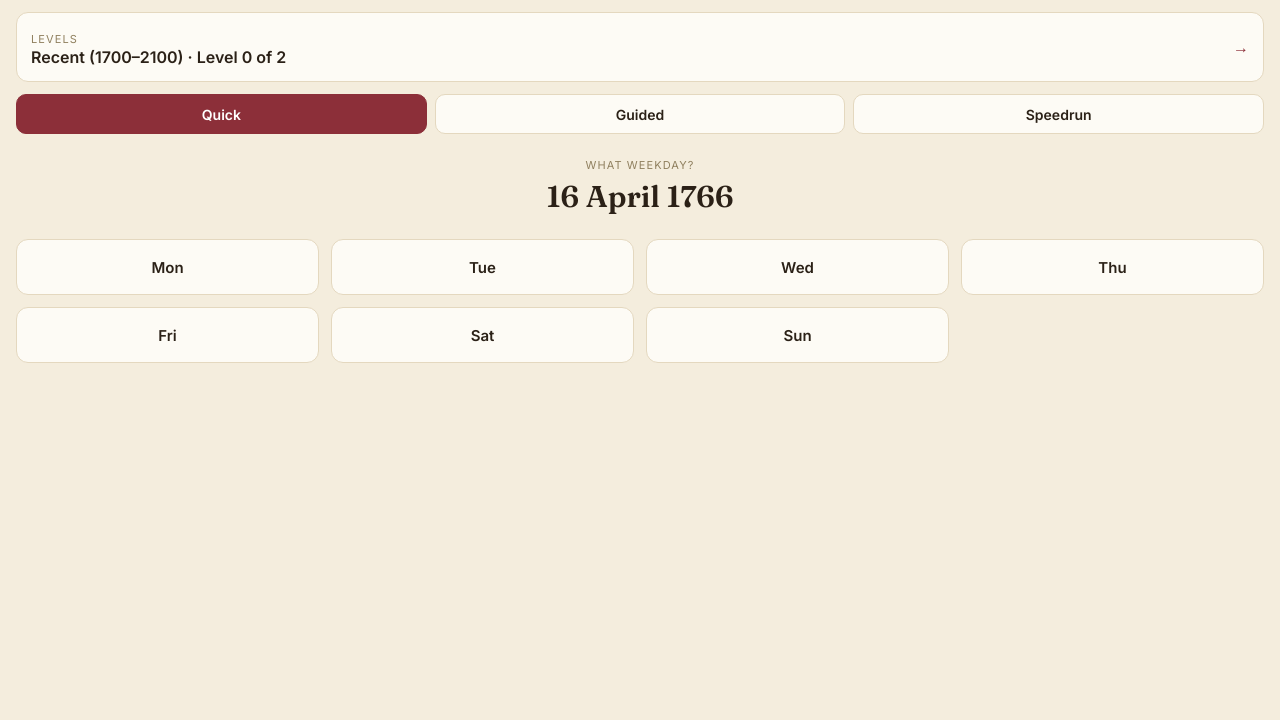
PracticeScreen › grades a correct answer, reveals reasoning, then advances
Click the button with aria-label "Wednesday".
click(798, 267)  # box [646,239,949,295]
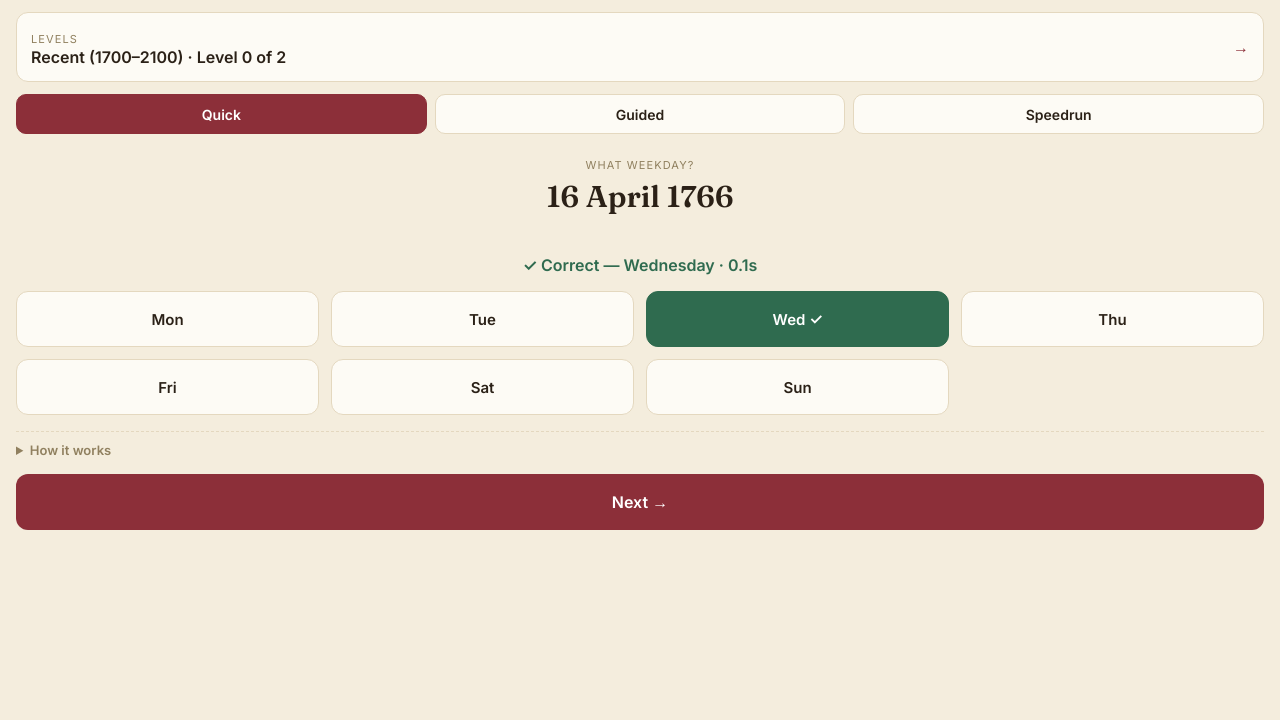
Now the message shows "Correct", box [523,255,757,275]
Now the heading "How it works" is shown, box [30,442,111,458]
Click the button "Next →".
click(640, 502)  # box [16,474,1264,530]
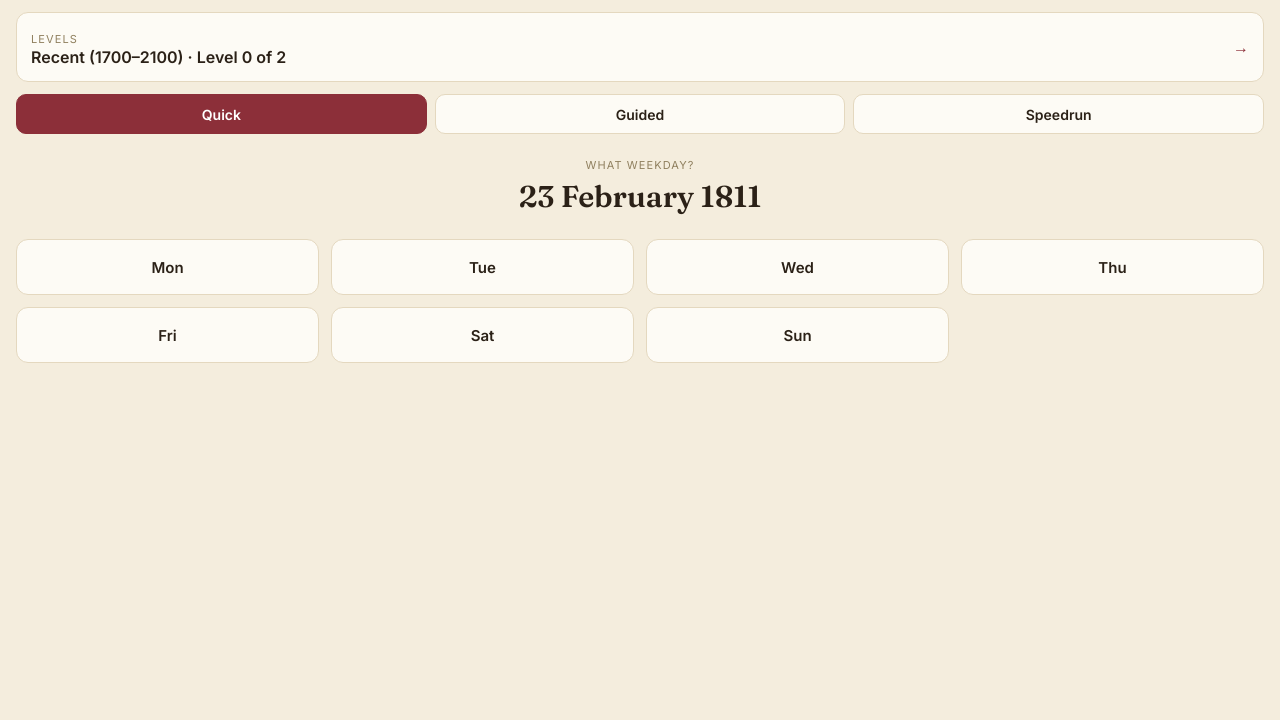
Now the message "✓ Correct — Wednesday · 0.1s" is gone
